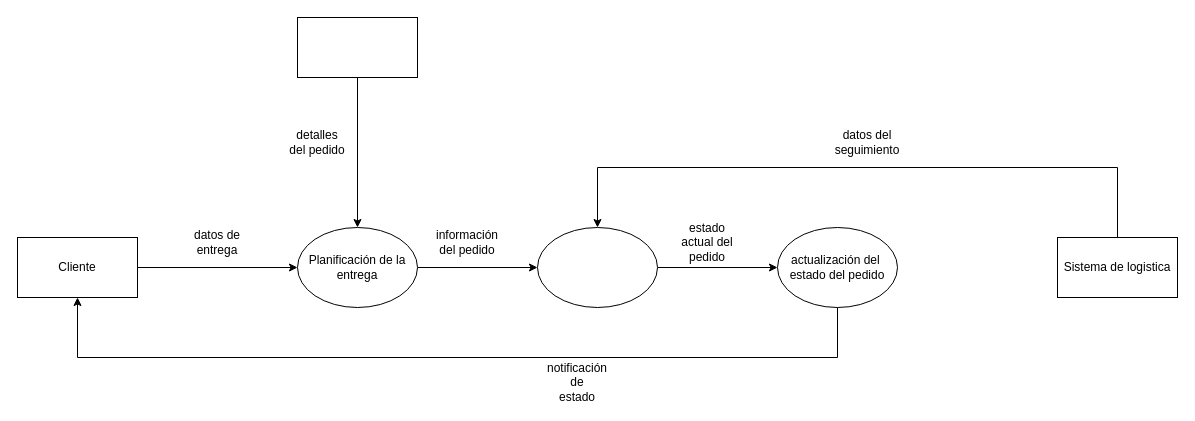
The diagram is 1195 pixels wide and 421 high, and some of its shapes have lost their labels. The box of each missing label's shape, as (x1, y1, x2, y2) in pixels:
Seguimiento de la entrega: (536, 226, 658, 308)
Sistema gestion de pedidos: (296, 16, 418, 78)
